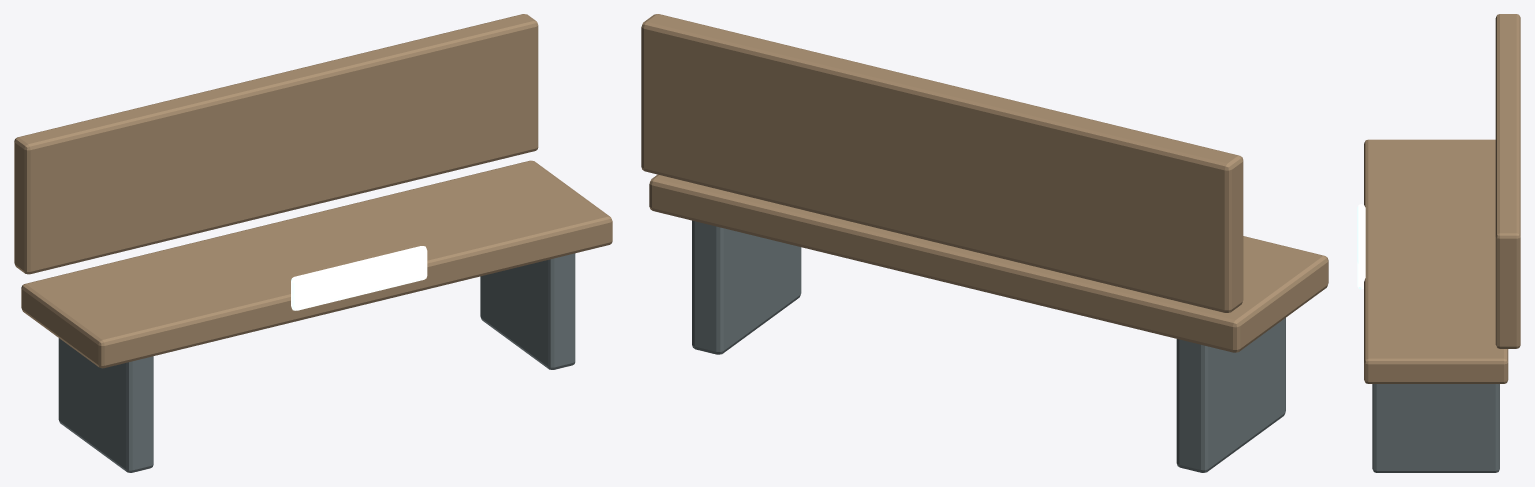
Rendered from SM_Kurpark_Bench.fbx.
The picture shows the model from 3 angles, left to right: view 1: azimuth 30°, elevation 25°; view 2: azimuth 150°, elevation 25°; view 3: azimuth 270°, elevation 25°; orthographic projection. The views are drawn at different scales.
Visible parts, largest first — view 1: SM_Kurpark_Bench; view 2: SM_Kurpark_Bench; view 3: SM_Kurpark_Bench.
Part boxes in pixels (x1,y1,x2,y2): SM_Kurpark_Bench: [14, 14, 612, 472]; SM_Kurpark_Bench: [641, 14, 1328, 472]; SM_Kurpark_Bench: [1357, 14, 1520, 472].
Bounding box in the file's own units: 1.9 × 1.01 × 0.59.
